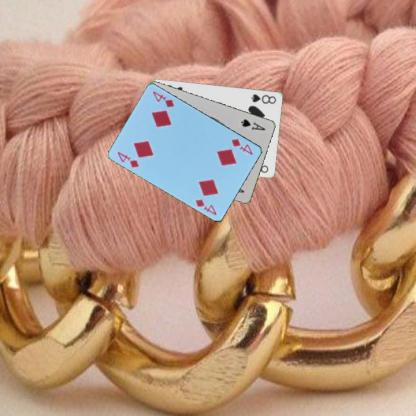4d: (115, 149, 140, 171), (229, 136, 254, 156)
8s: (249, 91, 277, 105)
As: (239, 116, 267, 132)
